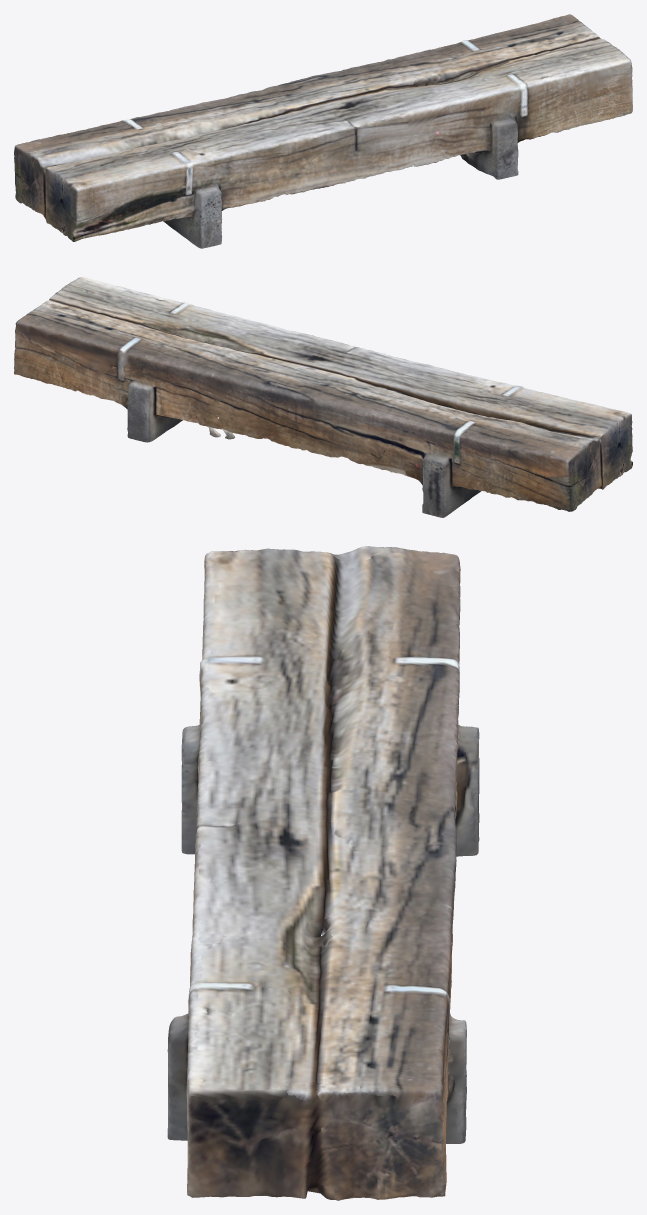
Rendered from large_wooden_bench.glb.
3 views of the same model, one above another, from view 1: azimuth 30°, elevation 25°; view 2: azimuth 150°, elevation 25°; view 3: azimuth 270°, elevation 25° (orthographic). The views are drawn at different scales.
Parts seen in each view (by area): view 1: Object_2; view 2: Object_2; view 3: Object_2.
Part boxes in pixels (<box>): Object_2: <box>14,14,632,248</box>; Object_2: <box>14,277,632,517</box>; Object_2: <box>167,546,479,1200</box>.
Size of the model in its own units: 3.01 by 0.4465 by 0.7313.
1 material, 1 textured.
